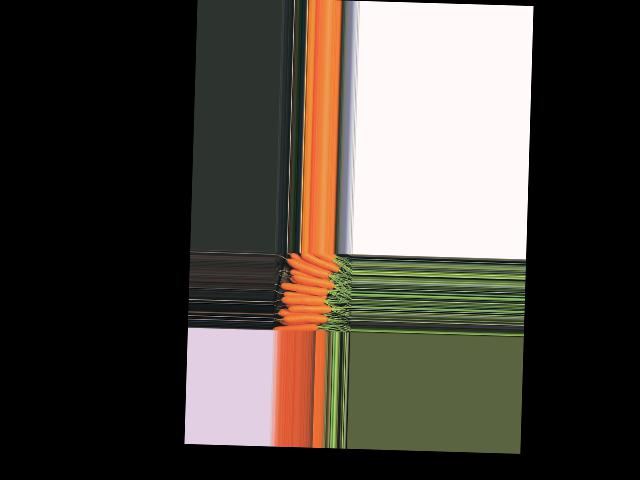carrot: (296, 258, 339, 268)
